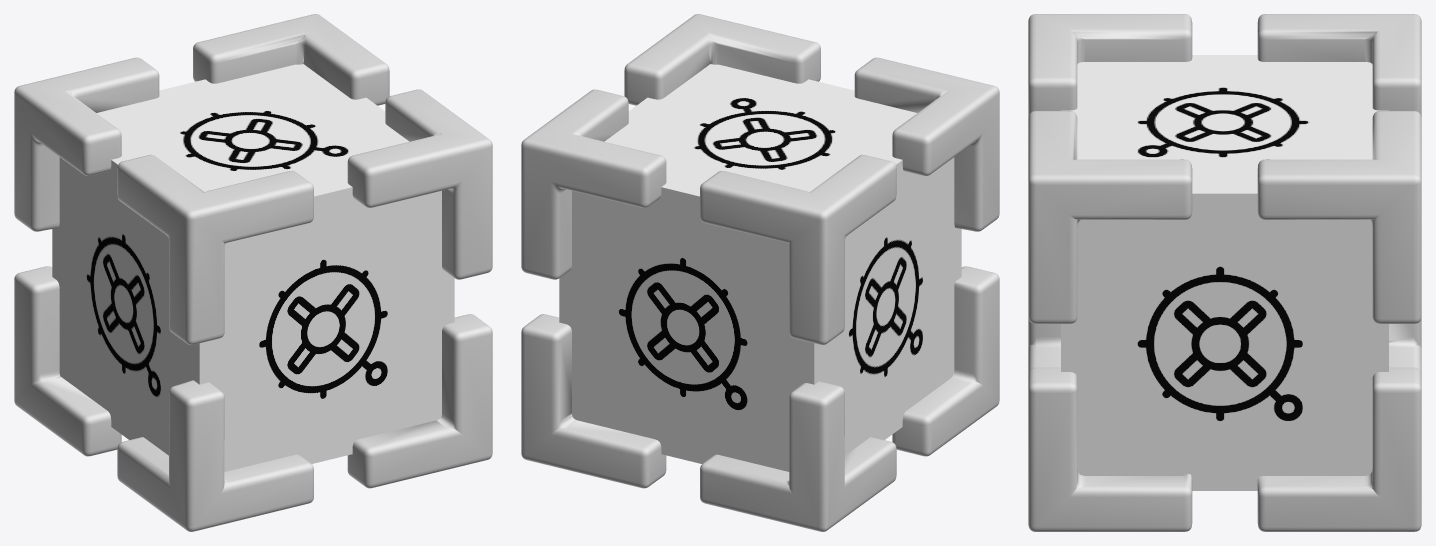
File: LandMineBox.FBX
3 renders of one model, left to right at view 1: azimuth 30°, elevation 25°; view 2: azimuth 150°, elevation 25°; view 3: azimuth 270°, elevation 25°, orthographic. The views are drawn at different scales.
Visible parts, largest first — view 1: MainBox, Corner005, Corner008, Corner001, Corner011, Corner007, Corner006, Corner010; view 2: MainBox, Corner011, Corner006, Corner010, Corner005, Corner002, Corner008, Corner001; view 3: MainBox, Corner010, Corner001, Corner007, Corner002, Corner011, Corner005, Corner006, Corner008.
Part boxes in pixels (x1,y1,x2,y2): MainBox: [52, 64, 454, 471]; Corner005: [117, 154, 313, 344]; Corner008: [117, 380, 313, 531]; Corner001: [347, 89, 492, 279]; Corner011: [14, 57, 159, 231]; Corner007: [347, 314, 492, 488]; Corner006: [14, 266, 121, 456]; Corner010: [193, 14, 389, 105]; MainBox: [559, 64, 961, 471]; Corner011: [700, 154, 896, 344]; Corner006: [700, 381, 896, 531]; Corner010: [521, 89, 666, 279]; Corner005: [854, 57, 999, 231]; Corner002: [521, 314, 666, 488]; Corner008: [892, 266, 999, 456]; Corner001: [624, 14, 820, 105]; MainBox: [1061, 55, 1388, 490]; Corner010: [1257, 111, 1421, 323]; Corner001: [1028, 111, 1192, 323]; Corner007: [1028, 367, 1192, 531]; Corner002: [1257, 367, 1421, 531]; Corner011: [1257, 14, 1421, 117]; Corner005: [1028, 14, 1192, 117]; Corner006: [1389, 317, 1421, 373]; Corner008: [1028, 317, 1060, 373].
Size of the model in its own units: 120 by 120 by 120.
1 material, 1 textured.
